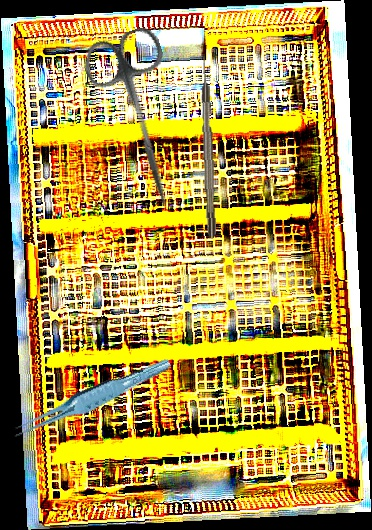Hook Surgical: (199, 53, 217, 239)
Iris Scissors: (78, 23, 206, 218)
Tissue Forceps: (4, 357, 177, 440)
